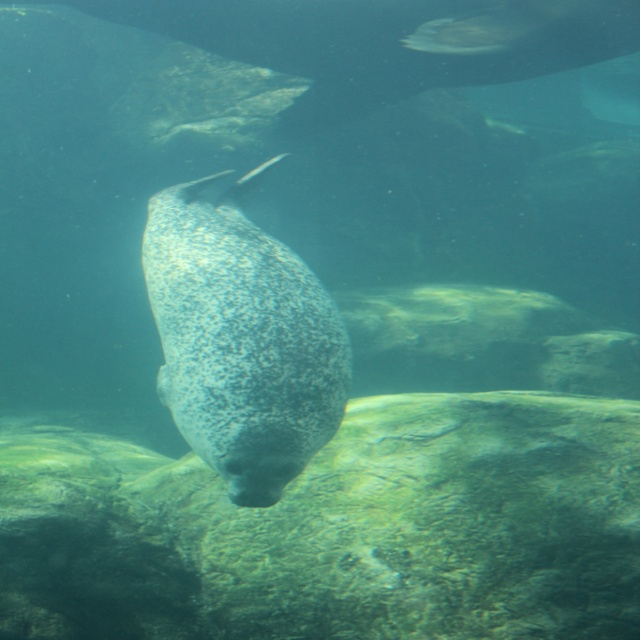Harbor seal: (142, 153, 354, 508)
